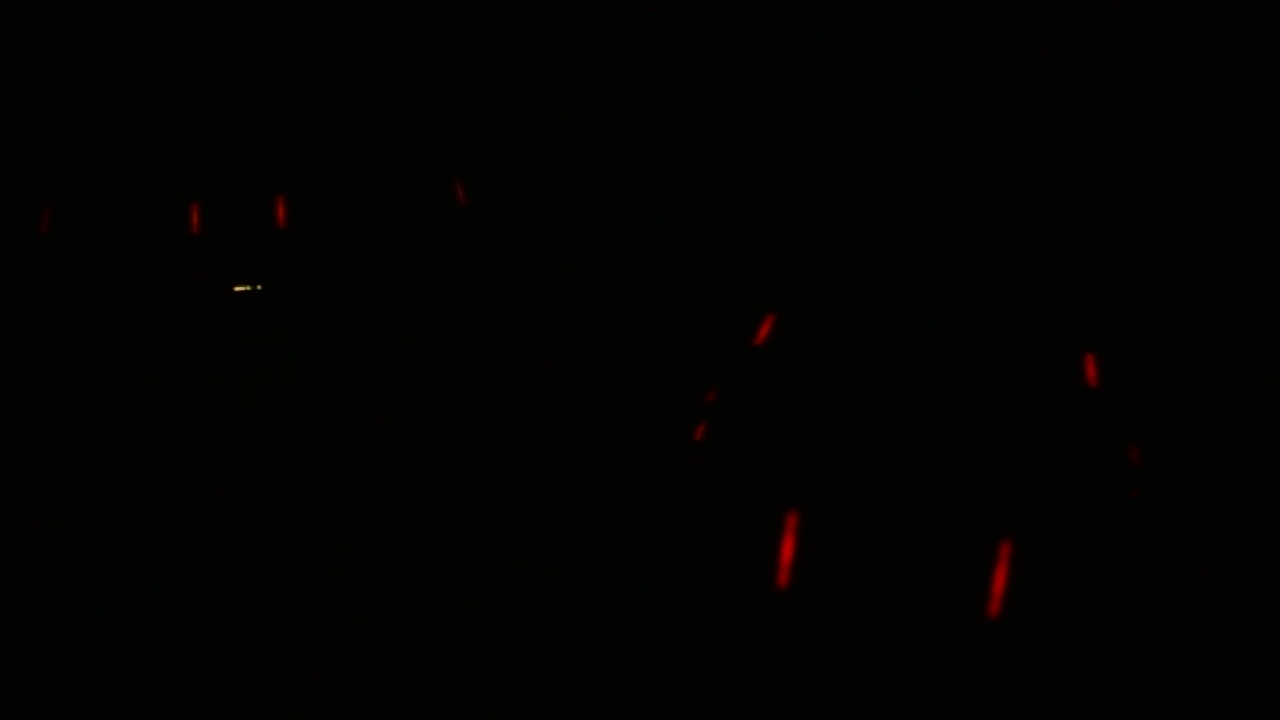pair1: (176, 184, 301, 250)
pair2: (766, 509, 1024, 631)
